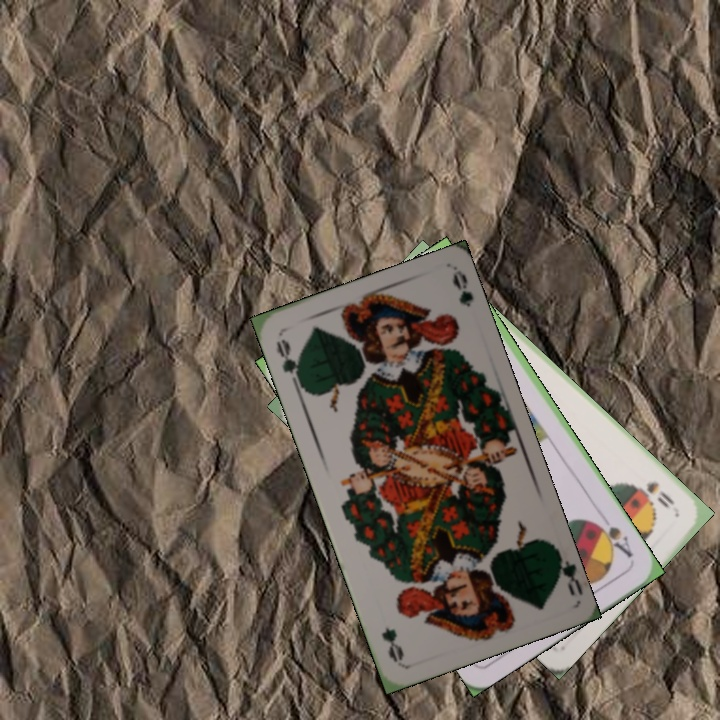GO: (550, 543, 583, 599), (272, 335, 304, 391)
SA: (590, 518, 637, 561)
SO: (642, 477, 678, 511)
